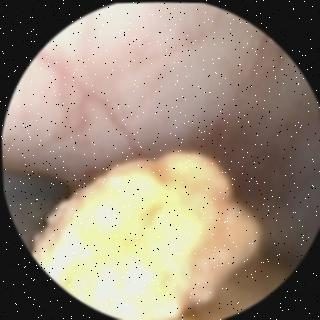stone: (32, 151, 260, 320)
tissue: (4, 2, 320, 254)
